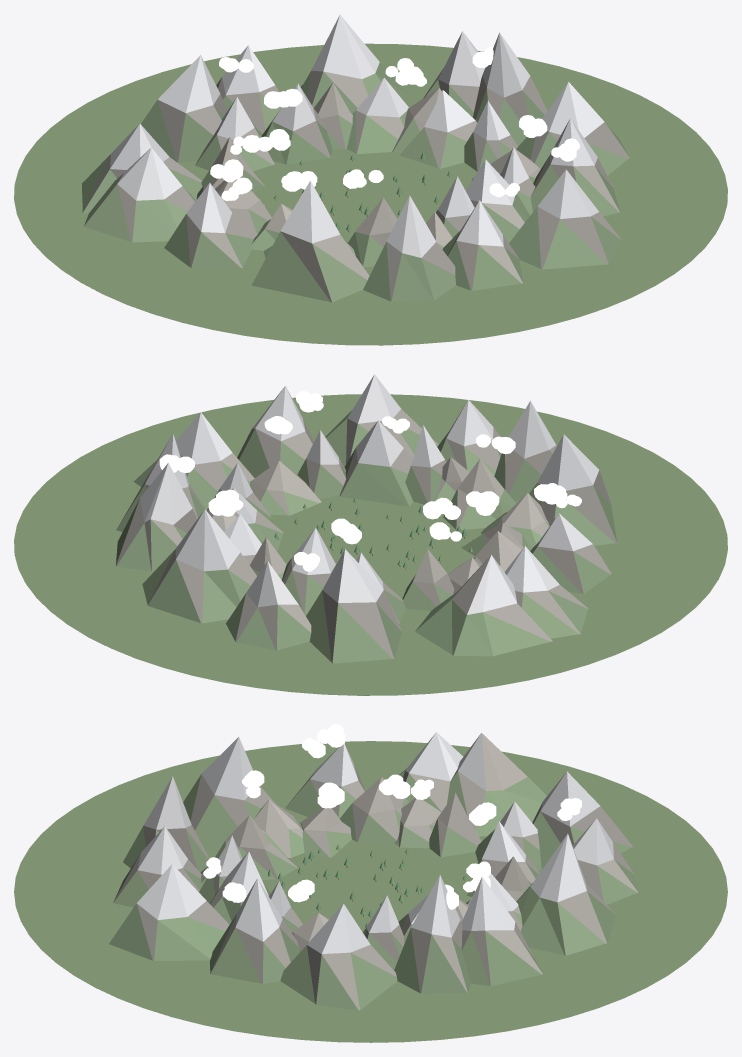
File: scenery.glb
The picture shows the model from 3 angles, top to bottom: view 1: azimuth 30°, elevation 25°; view 2: azimuth 150°, elevation 25°; view 3: azimuth 270°, elevation 25°; orthographic projection.
Visible parts, largest first — view 1: Peaks, Meadow, Clouds, Trees; view 2: Peaks, Meadow, Clouds, Trees; view 3: Peaks, Meadow, Clouds, Trees.
Boxes of the visible parts, x1=… form: Peaks: x1=82, y1=15, x2=629, y2=302; Meadow: x1=14, y1=43, x2=727, y2=345; Clouds: x1=210, y1=46, x2=579, y2=200; Trees: x1=274, y1=151, x2=451, y2=232; Peaks: x1=116, y1=374, x2=616, y2=663; Meadow: x1=14, y1=394, x2=727, y2=695; Clouds: x1=159, y1=391, x2=581, y2=571; Trees: x1=274, y1=497, x2=473, y2=569; Peaks: x1=109, y1=732, x2=637, y2=1010; Meadow: x1=14, y1=741, x2=727, y2=1042; Clouds: x1=203, y1=724, x2=581, y2=909; Trees: x1=268, y1=844, x2=465, y2=927.
Size of the model in its own units: 300 by 46.05 by 300.
